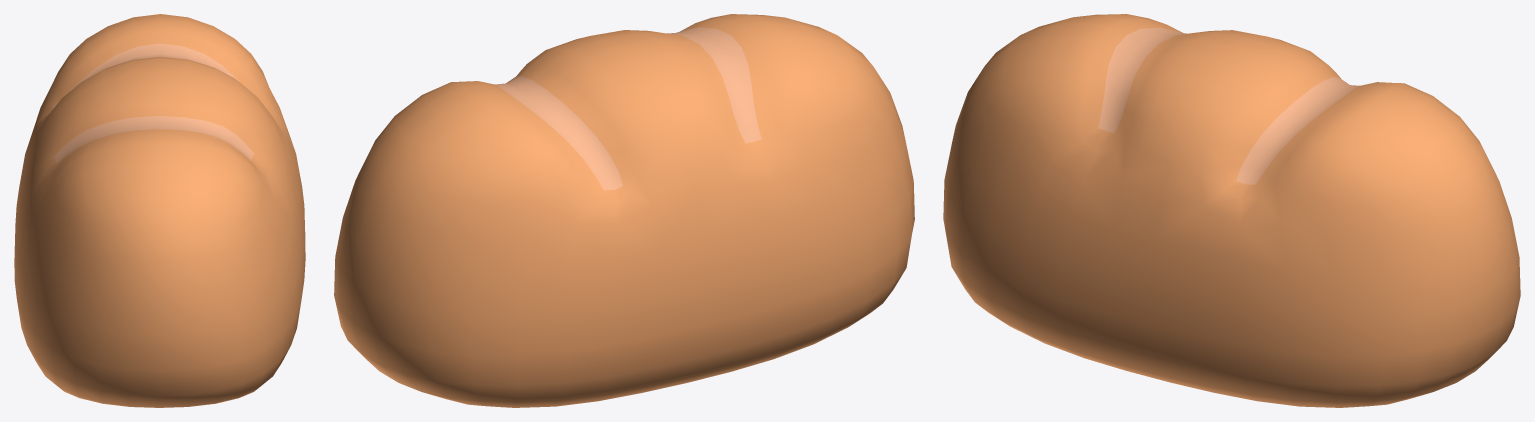
The model's file is Breadstick_03.fbx.
3 views of the same model, side by side, from view 1: azimuth 30°, elevation 25°; view 2: azimuth 150°, elevation 25°; view 3: azimuth 270°, elevation 25° (orthographic). The views are drawn at different scales.
Visible parts, largest first — view 1: Breadstick_03_LOD0; view 2: Breadstick_03_LOD0; view 3: Breadstick_03_LOD0.
Part boxes in pixels (x1,y1,x2,y2): Breadstick_03_LOD0: (14,14,305,407); Breadstick_03_LOD0: (334,14,914,407); Breadstick_03_LOD0: (943,14,1520,407).
Size of what is drawn, in the model's own units: 458 by 334 by 581.
